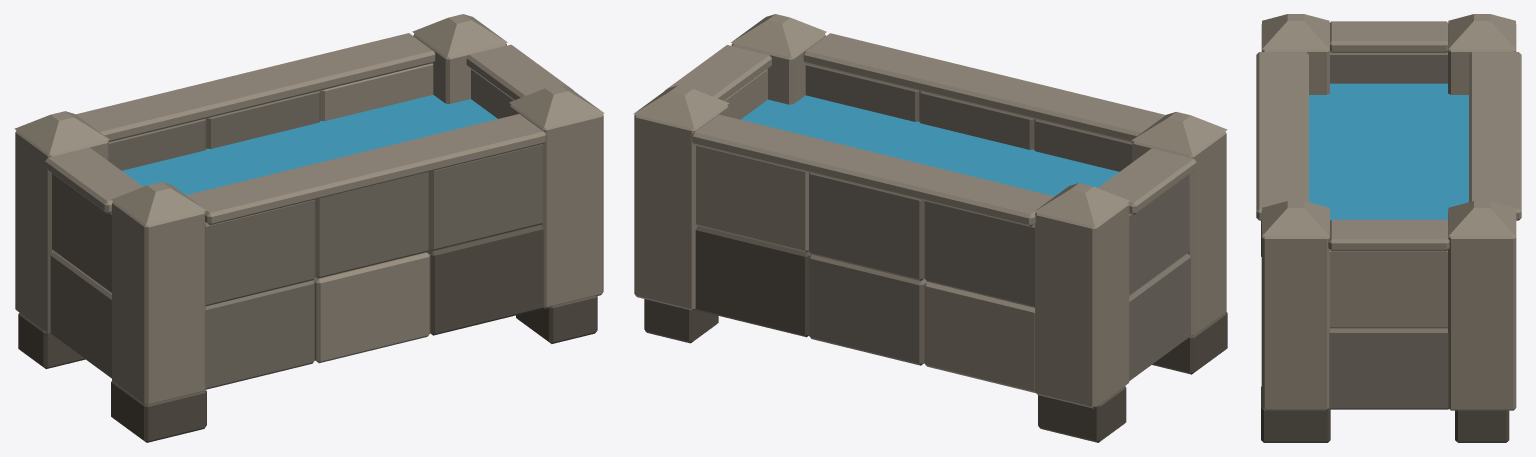
Rendered from p_trough.glb.
The picture shows the model from 3 angles, left to right: view 1: azimuth 30°, elevation 25°; view 2: azimuth 150°, elevation 25°; view 3: azimuth 270°, elevation 25°; orthographic projection. The views are drawn at different scales.
Visible parts, largest first — view 1: mdvl_props_water_trough_01_0; view 2: mdvl_props_water_trough_01_0; view 3: mdvl_props_water_trough_01_0.
Part boxes in pixels (x1=…): mdvl_props_water_trough_01_0: x1=14, y1=14, x2=604, y2=442; mdvl_props_water_trough_01_0: x1=633, y1=14, x2=1227, y2=442; mdvl_props_water_trough_01_0: x1=1256, y1=14, x2=1521, y2=442.
Bounding box in the file's own units: 1.34 × 0.649 × 0.684.
Materials: 1 (1 with a texture image).
